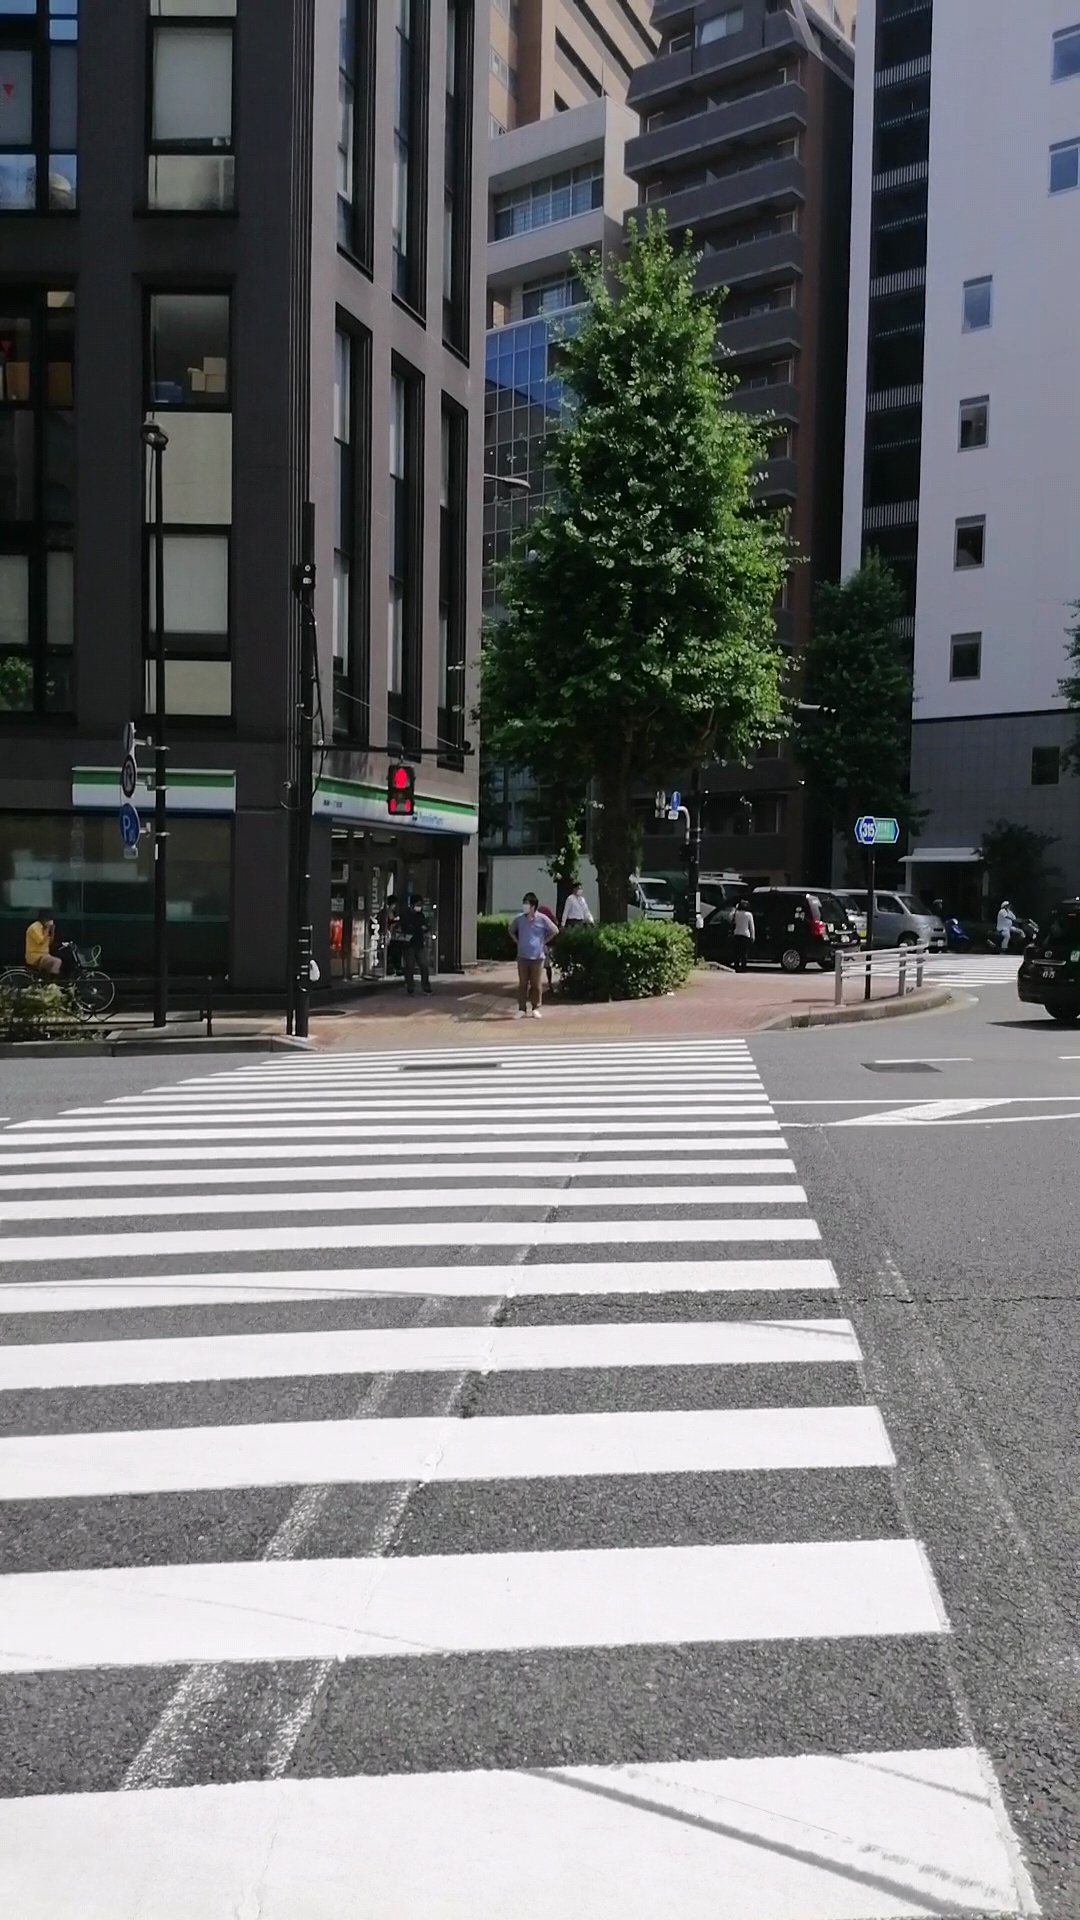red: (385, 764, 415, 818)
